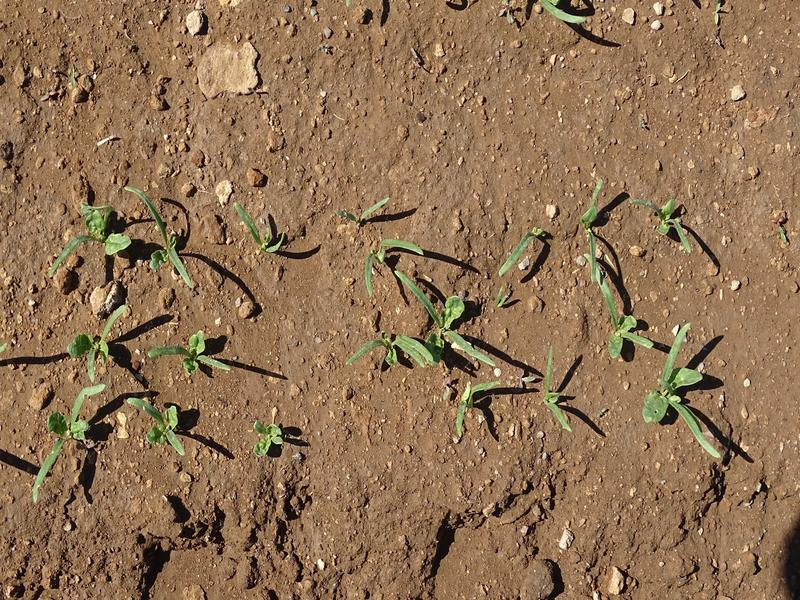Espinaca: (357, 227, 727, 462), (40, 202, 224, 465), (232, 201, 288, 254), (248, 420, 276, 456)
